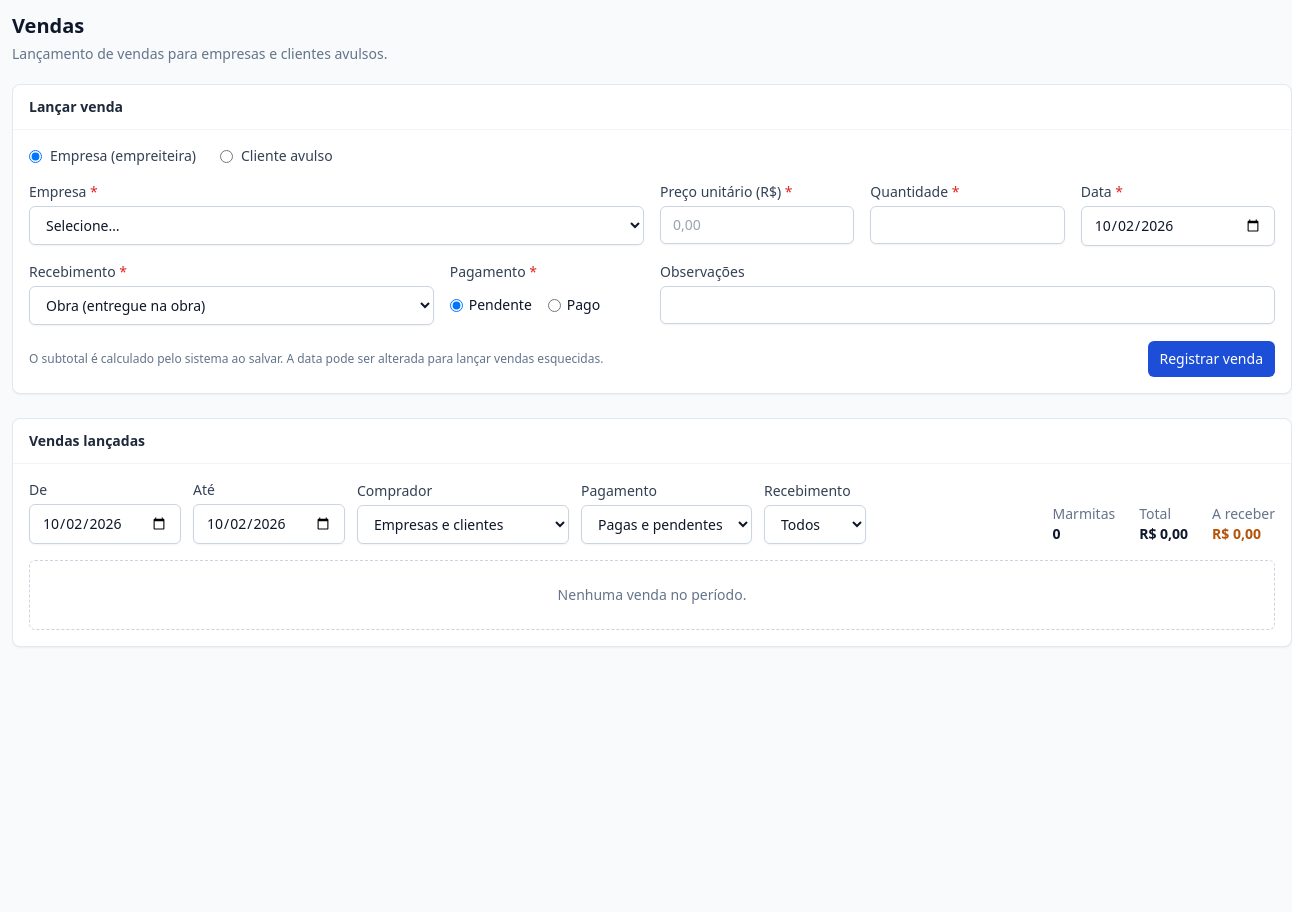
Test: Vendas (FE-02, FE-03, FE-04) › recebimento vem do cadastro do cliente e o pagamento pode ser marcado
expect the dropdown labelled "Empresa *" is shown: met, box [29,206,644,245]
Click the radio button labelled "Cliente avulso".
click(226, 156)  # box [220,150,233,162]
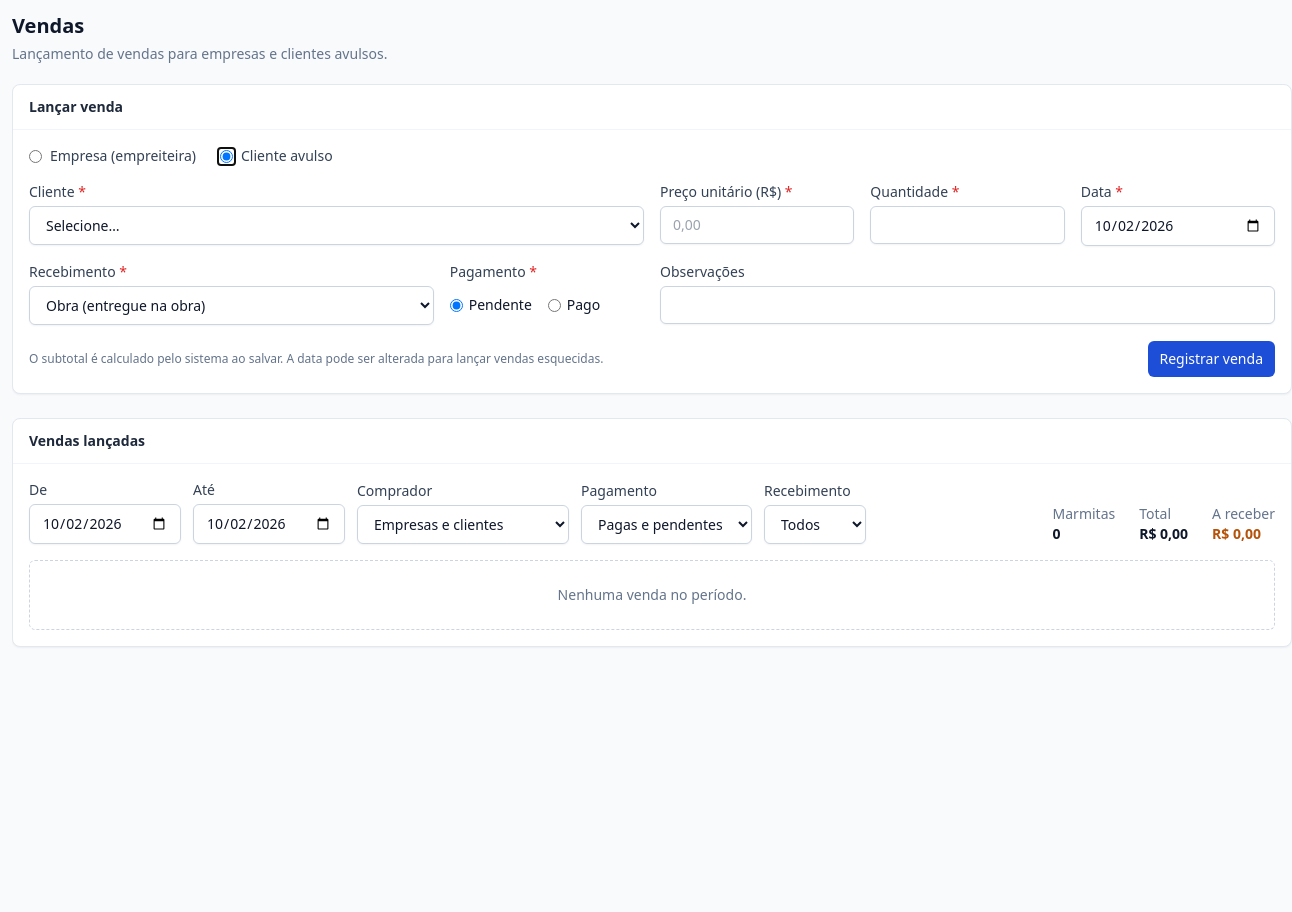
Select "João da Obra" in the dropdown labelled "Cliente *" at (336, 226), box [29,206,644,245]
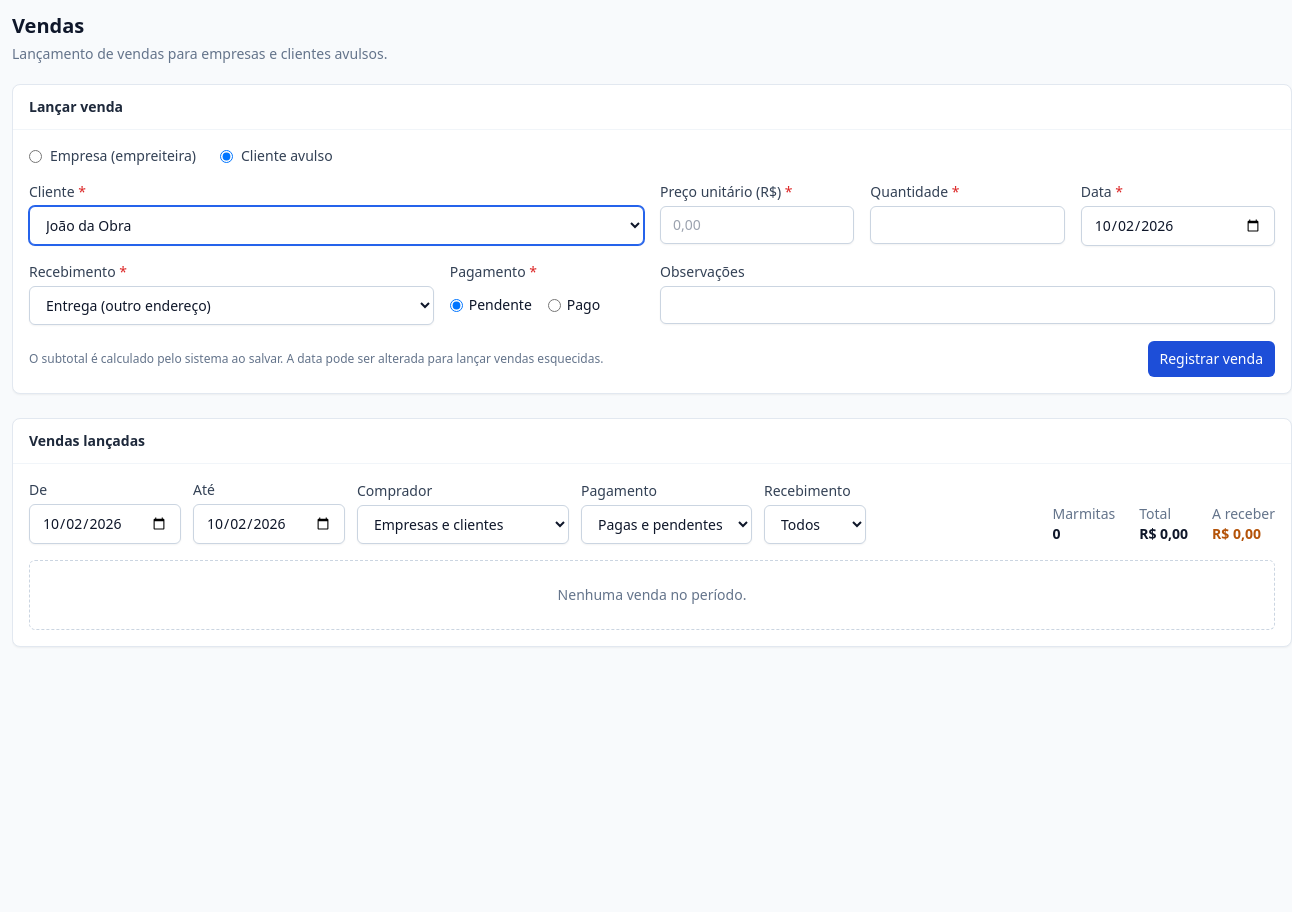
expect the dropdown labelled "Recebimento *" shows "Entrega (outro endereço)": met, box [29,286,434,325]
Type "22" into the field labelled "Preço unitário (R$) *".
click(757, 225); type("22")  # box [660,206,854,244]
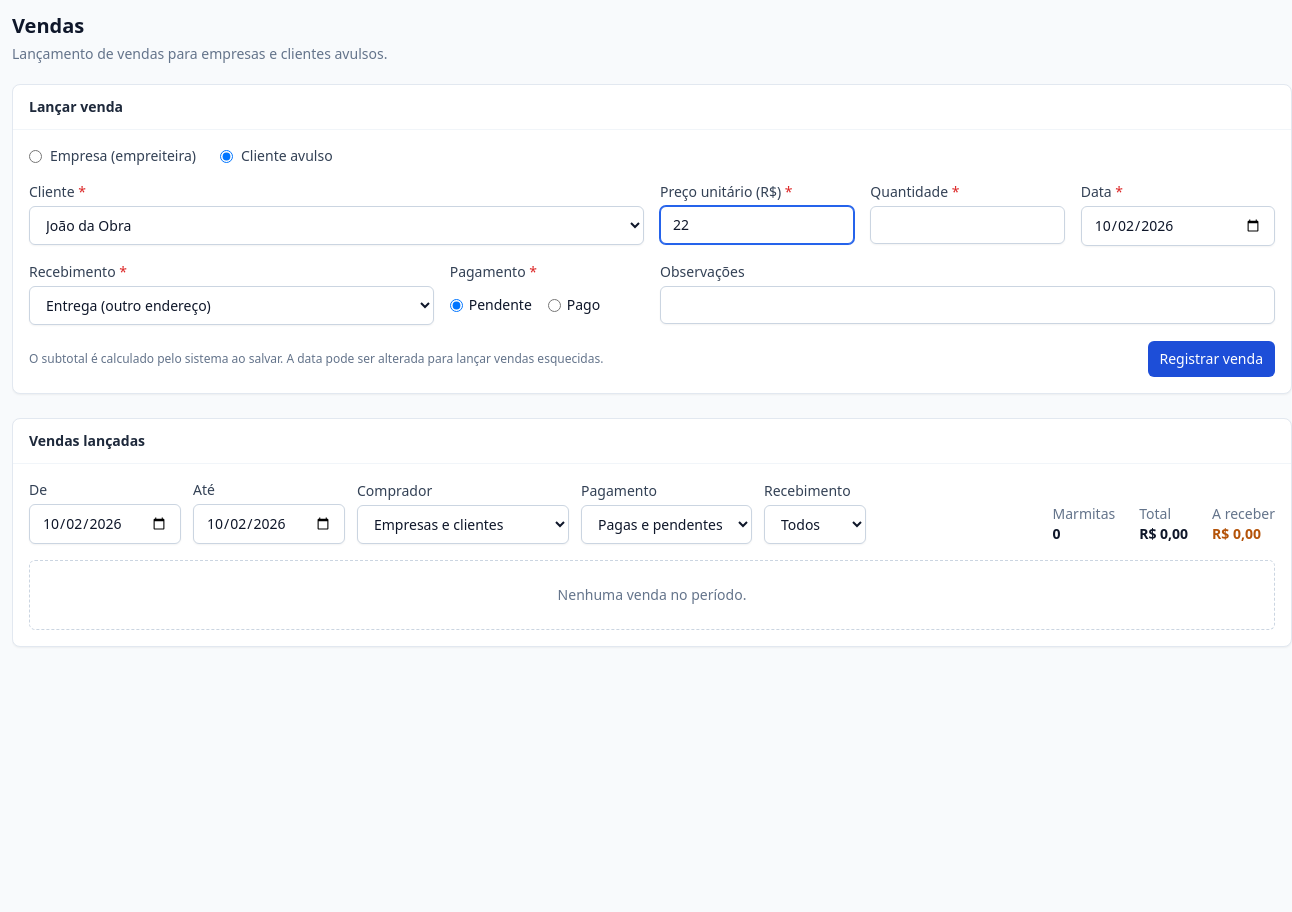
Type "1" into the field labelled "Quantidade *".
click(967, 225); type("1")  # box [870,206,1065,244]
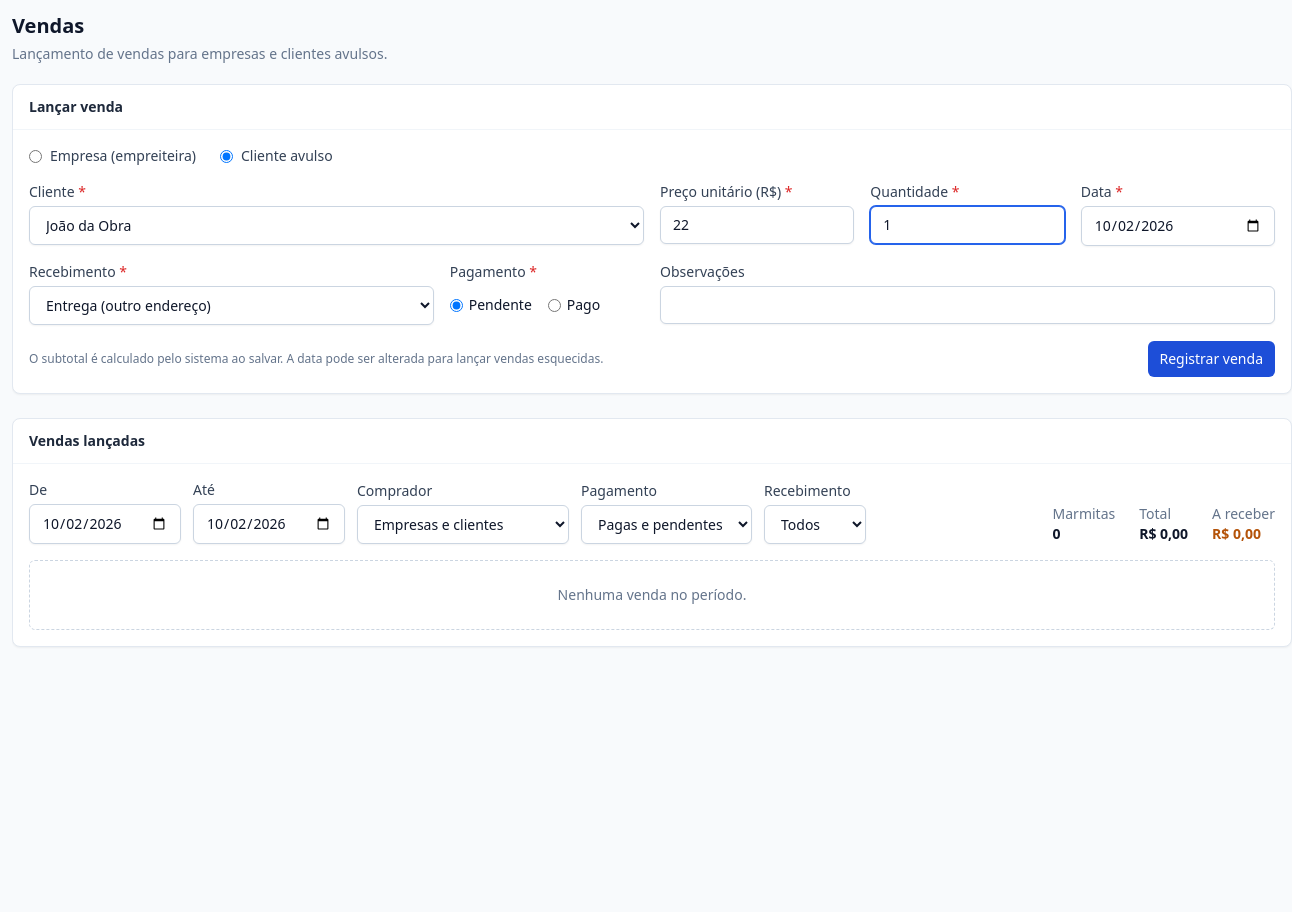
Click the radio button labelled "Pago".
click(554, 305)  # box [548,298,561,312]
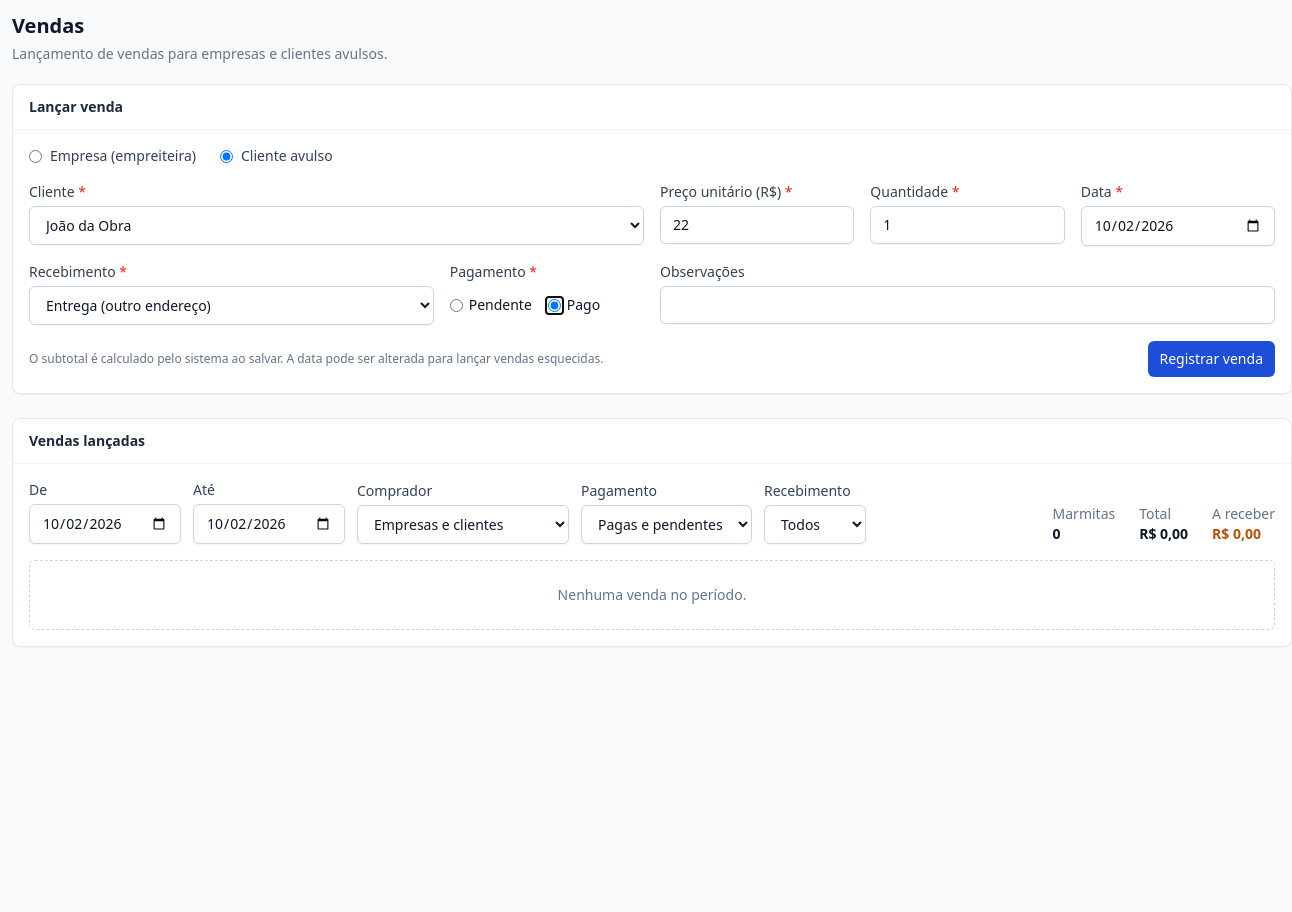
Click the button "Registrar venda".
click(1211, 359)  # box [1148,341,1275,377]
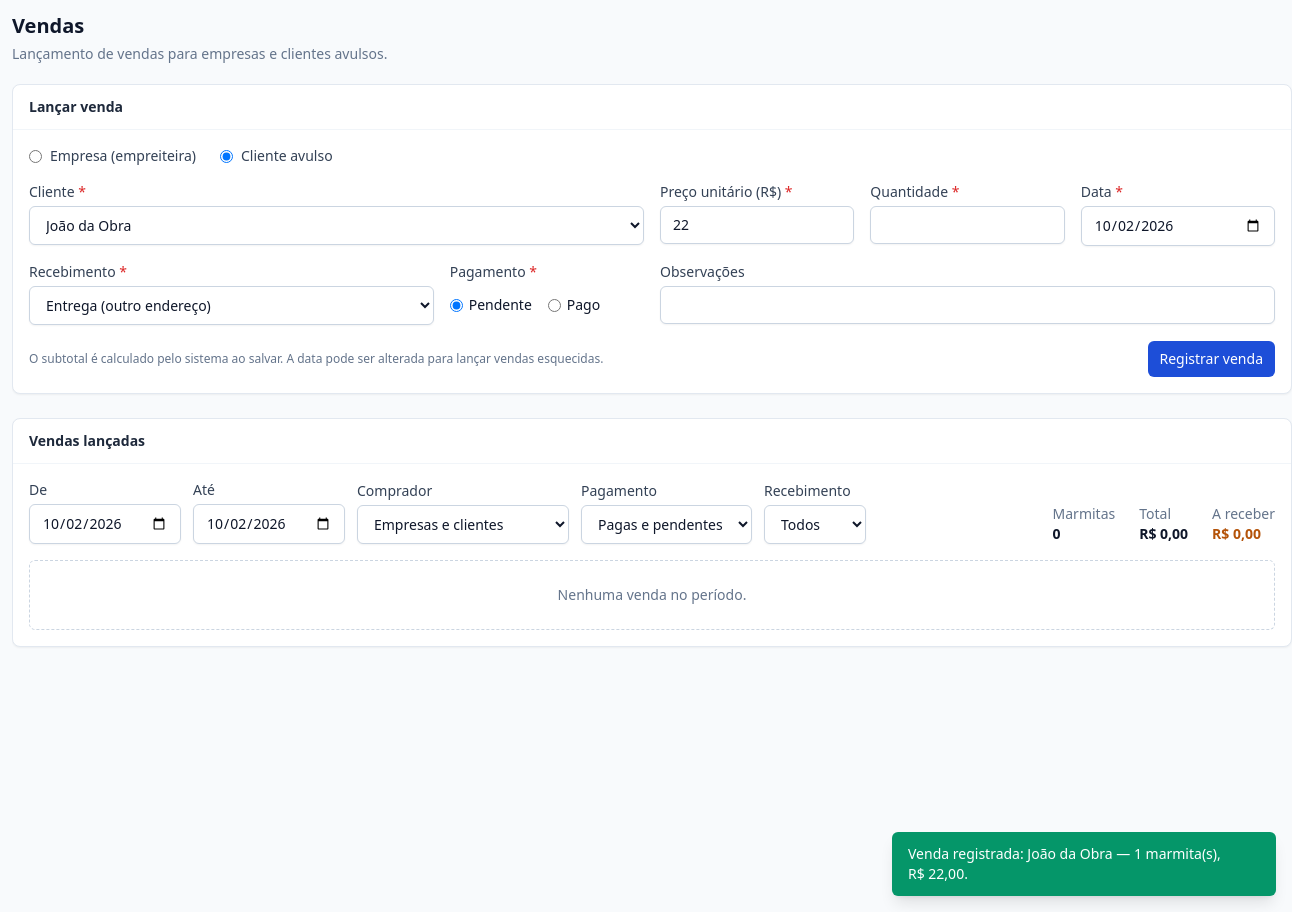
expect the message "Venda registrada: João da Obra — 1 marmita(s), R$ 22,00." is shown: met, box [892,832,1276,896]
